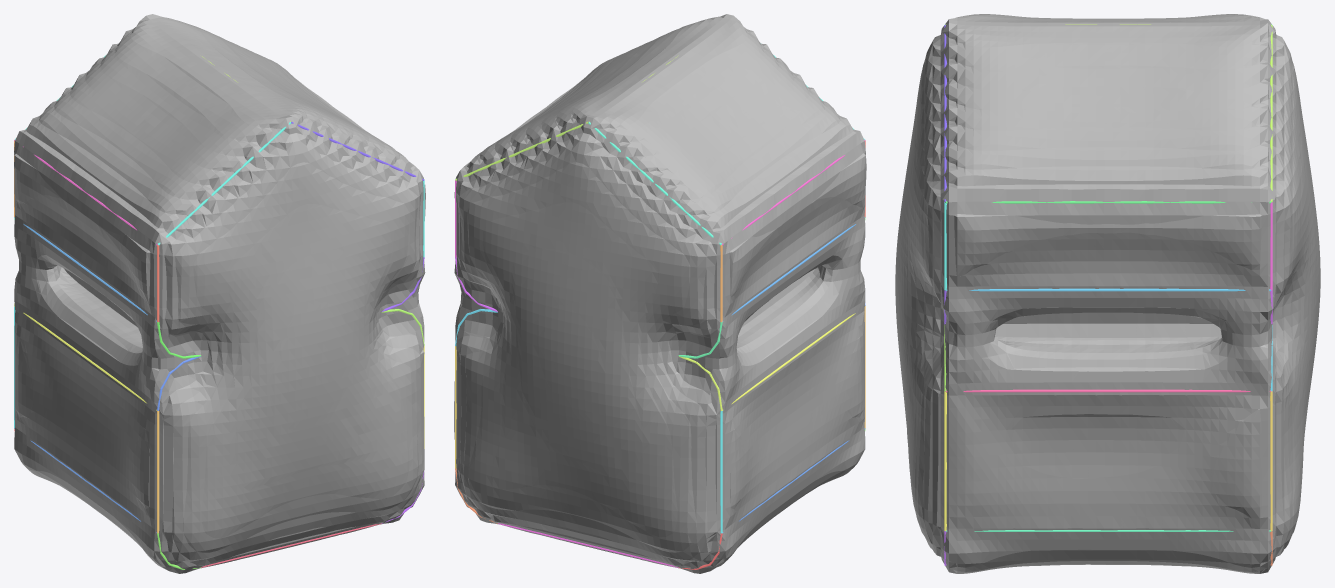
Rendered from onshape_house.gltf.
The picture shows the model from 3 angles, left to right: view 1: azimuth 30°, elevation 25°; view 2: azimuth 150°, elevation 25°; view 3: azimuth 270°, elevation 25°; orthographic projection. The views are drawn at different scales.
Size of the model in its own units: 0.521 by 0.7718 by 0.5953.
